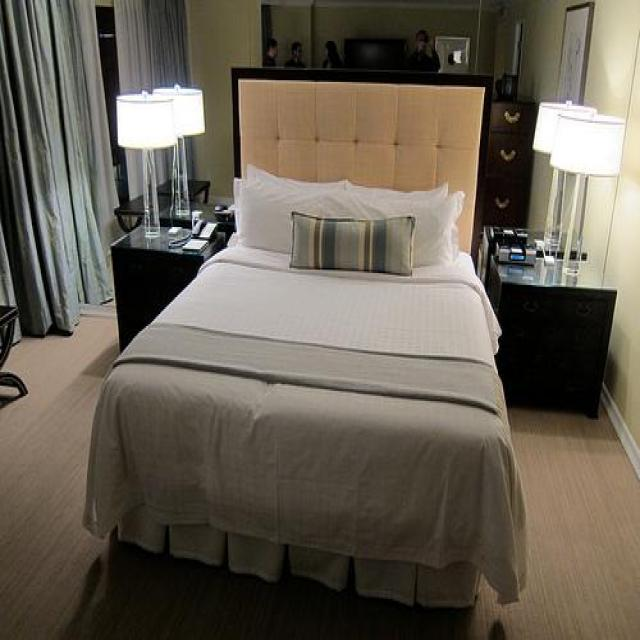bed: (82, 65, 527, 609)
